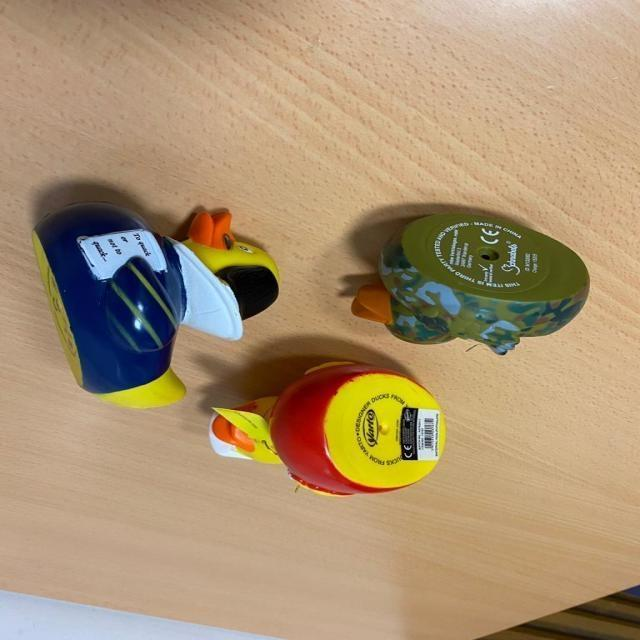rubber-duck: (32, 202, 277, 406), (208, 361, 443, 493), (378, 213, 587, 352)
